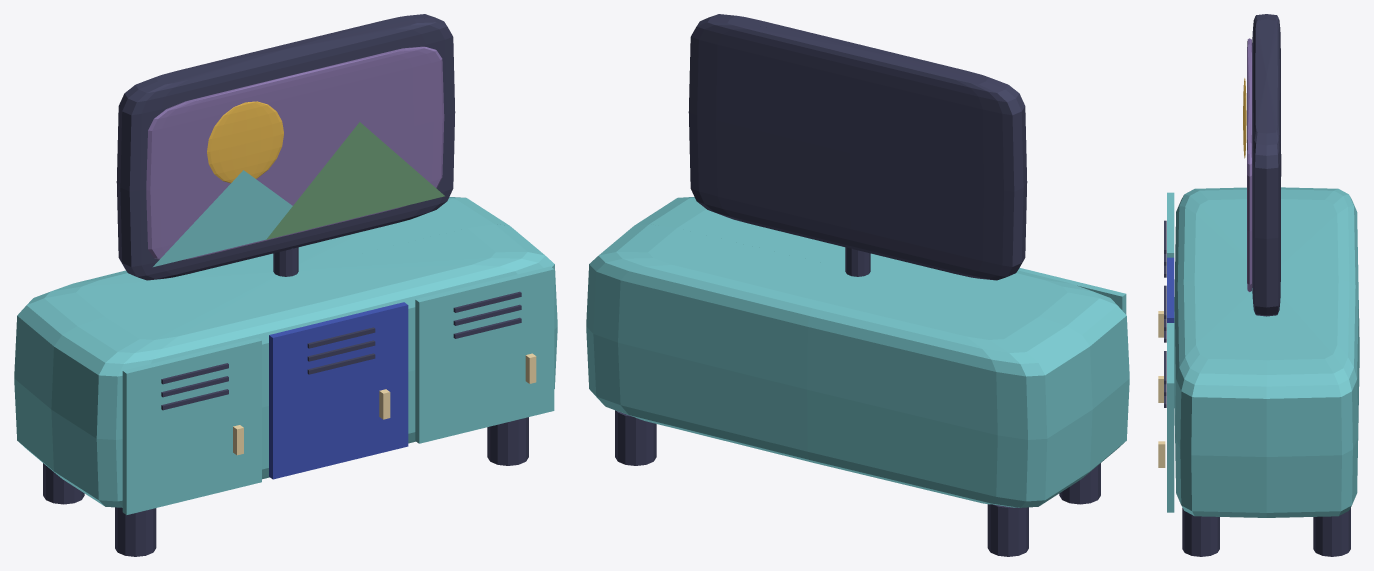
File: locker-tv-stand.glb
3 renders of one model, left to right at view 1: azimuth 30°, elevation 25°; view 2: azimuth 150°, elevation 25°; view 3: azimuth 270°, elevation 25°, orthographic. The views are drawn at different scales.
Visible parts, largest first — view 1: locker-tv-stand; view 2: locker-tv-stand; view 3: locker-tv-stand.
Boxes of the visible parts, left/top/right/bottom form: locker-tv-stand: left=14, top=14, right=557, bottom=556; locker-tv-stand: left=586, top=14, right=1129, bottom=556; locker-tv-stand: left=1158, top=14, right=1359, bottom=556.
Size of the model in its own units: 1.7 by 1.48 by 0.6925.
